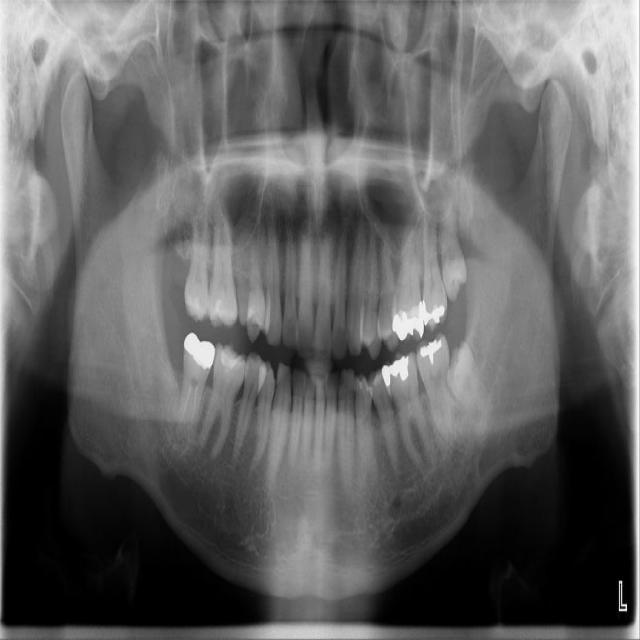52: (205, 341, 253, 397), (407, 331, 458, 383), (378, 351, 424, 406), (175, 331, 220, 380), (205, 277, 239, 329), (391, 292, 424, 341), (183, 271, 210, 324), (421, 280, 448, 333)
73: (173, 370, 208, 441), (591, 578, 599, 594)
BioHorizons Implant: (420, 207, 448, 333)
BioLife Implant: (434, 190, 470, 304)
Biomet 3i Implant: (433, 338, 512, 440)
Blue Sky Bio Implant: (416, 332, 454, 449)
Caries: (184, 195, 209, 323)
Implant: (174, 331, 217, 438)
